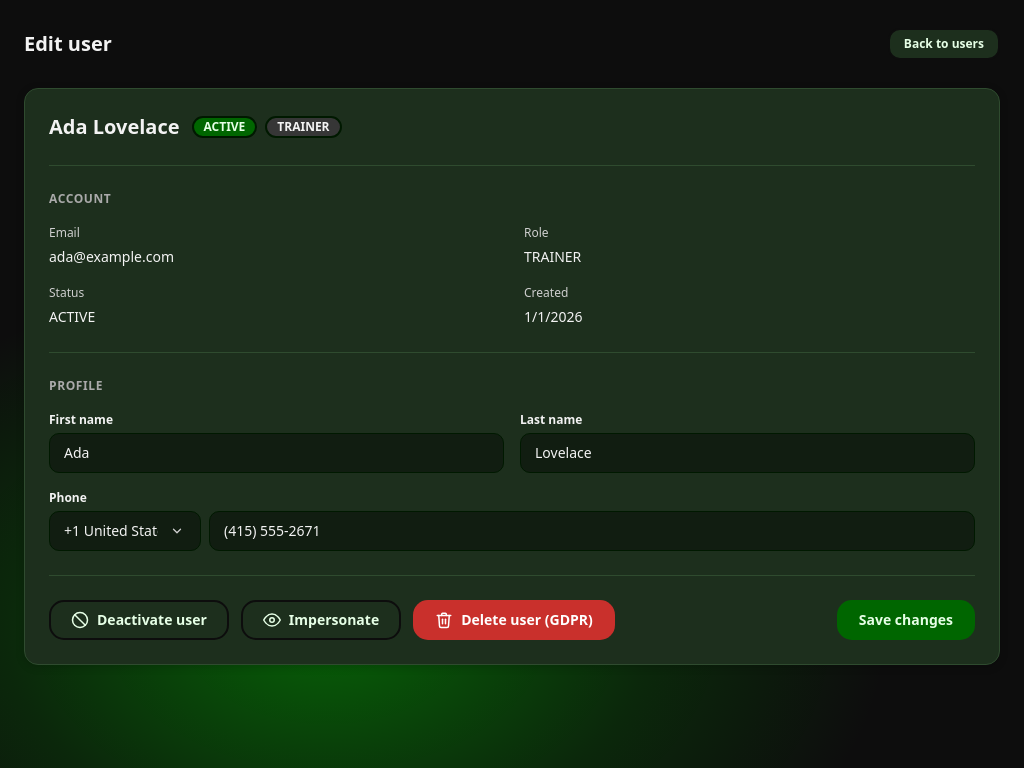
Scenario: UserDetailPage › opens ImpersonateConfirmModal from the Impersonate button for a non-Super-Admin user
The image size is (1024, 768).
expect the heading "Ada Lovelace" is shown: met, box [49,113,180,141]
Click the button "Impersonate" at coordinates (321, 620), box [241,600,401,640]
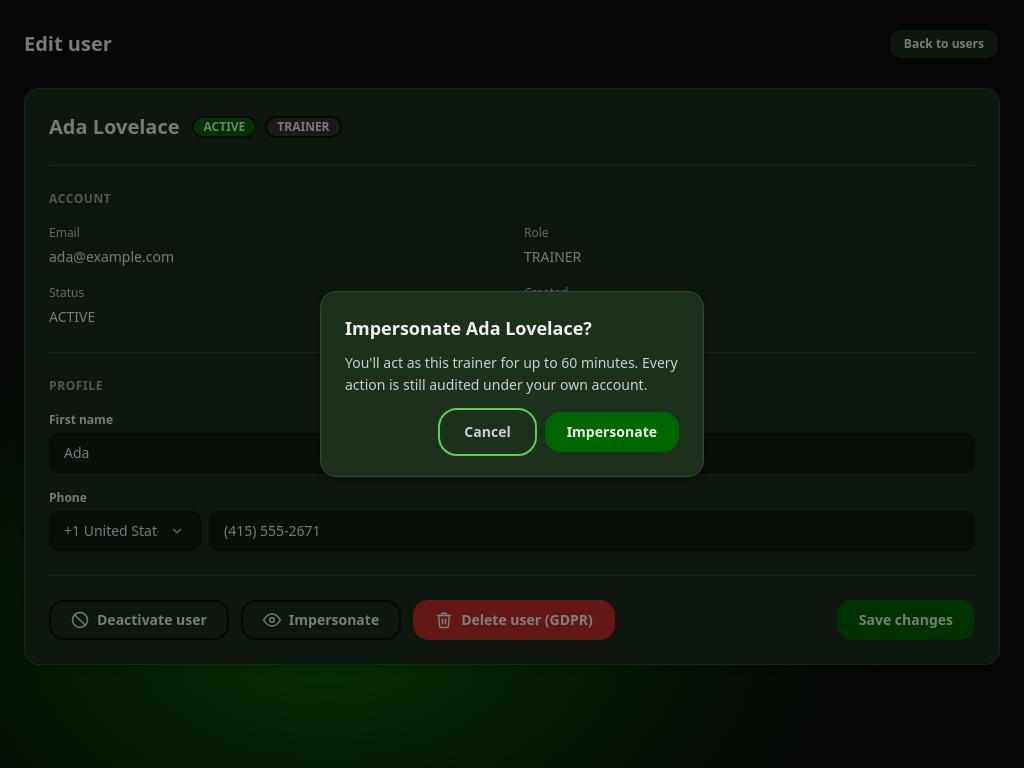
expect the dialog "Impersonate Ada Lovelace" is shown: met, box [320,291,704,477]
